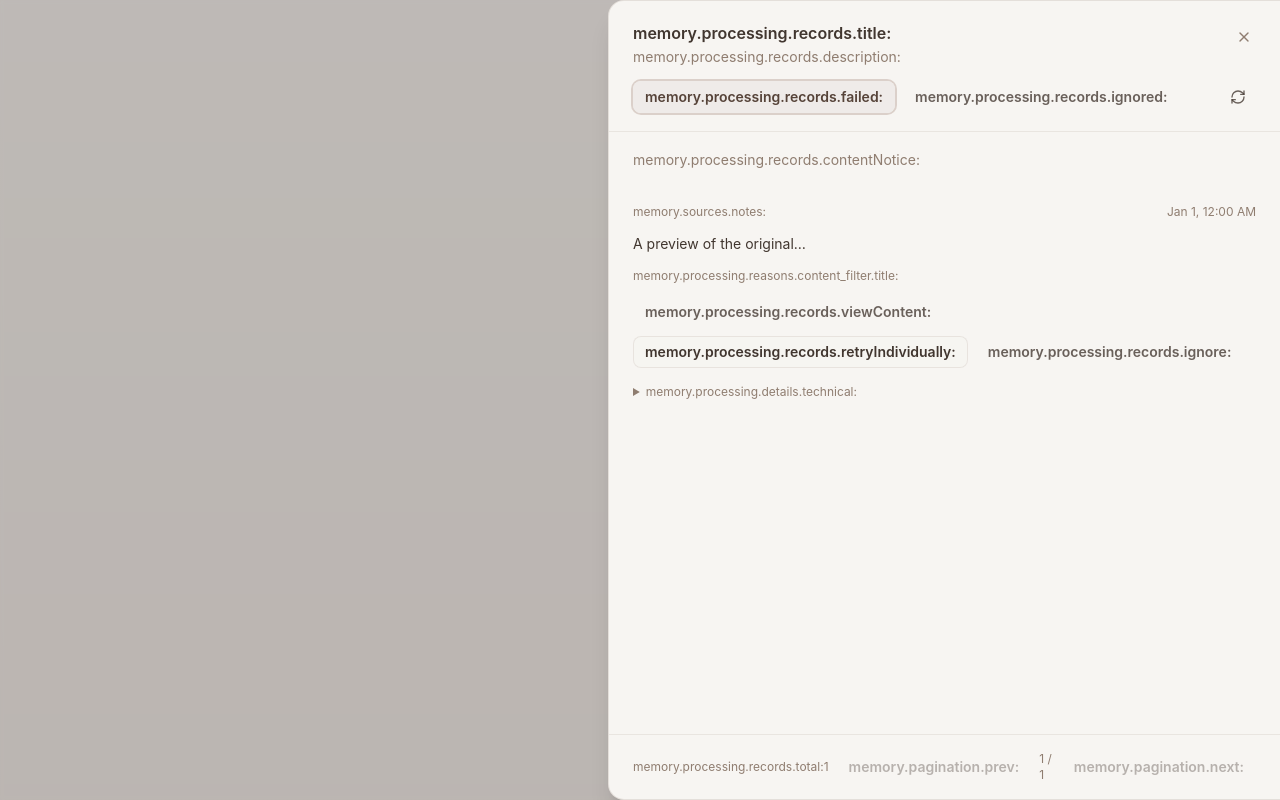
Test: MemoryFailureRecords › preserves the record after an action failure and reports concurrent changes honestly
The width and height of the screenshot is (1280, 800).
Expected: the text "A preview of the original…" is shown, [633,235,806,252]
What coordinates should you click on to do the following:
click the button "memory.processing.records.ignore:"
I would click on:
 (1110, 352)
Its box is [976,336,1243,368].
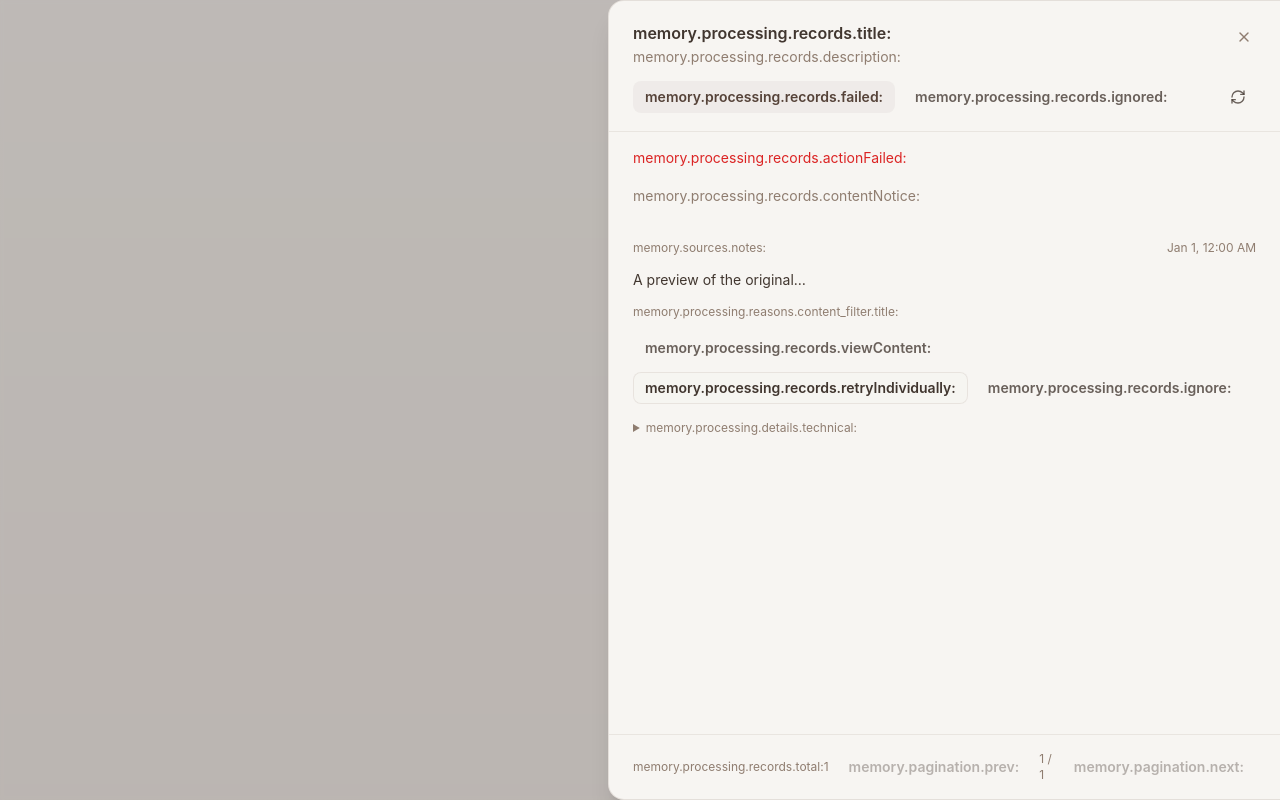
Expected: the text "A preview of the original…" is shown, [633,271,806,288]
Result: the message shows "memory.processing.records.actionFailed" at [633,149,906,166]
What coordinates should you click on to do the following:
click the button "memory.processing.records.ignore:"
I would click on:
 (1110, 388)
Its box is [976,372,1243,404].
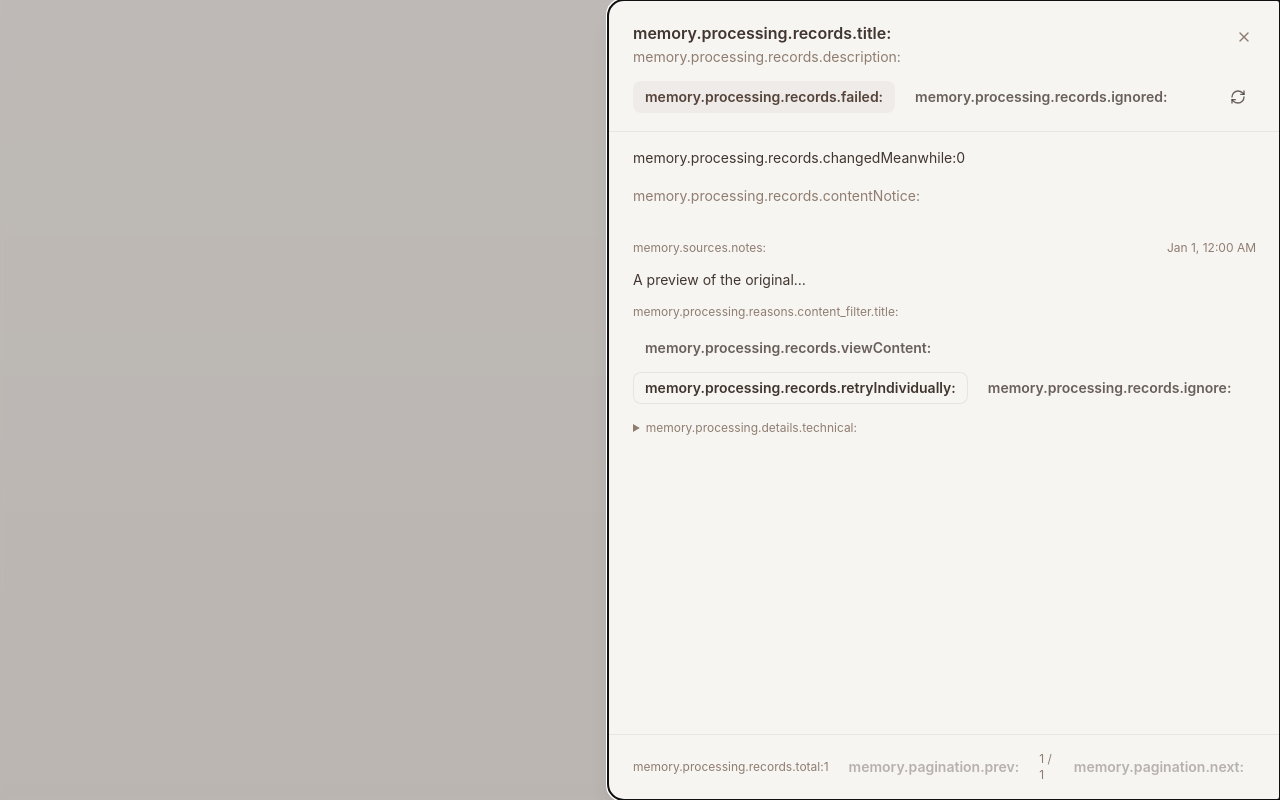
Result: the text "memory.processing.records.changedMeanwhile:0" is shown at [633,149,965,166]
